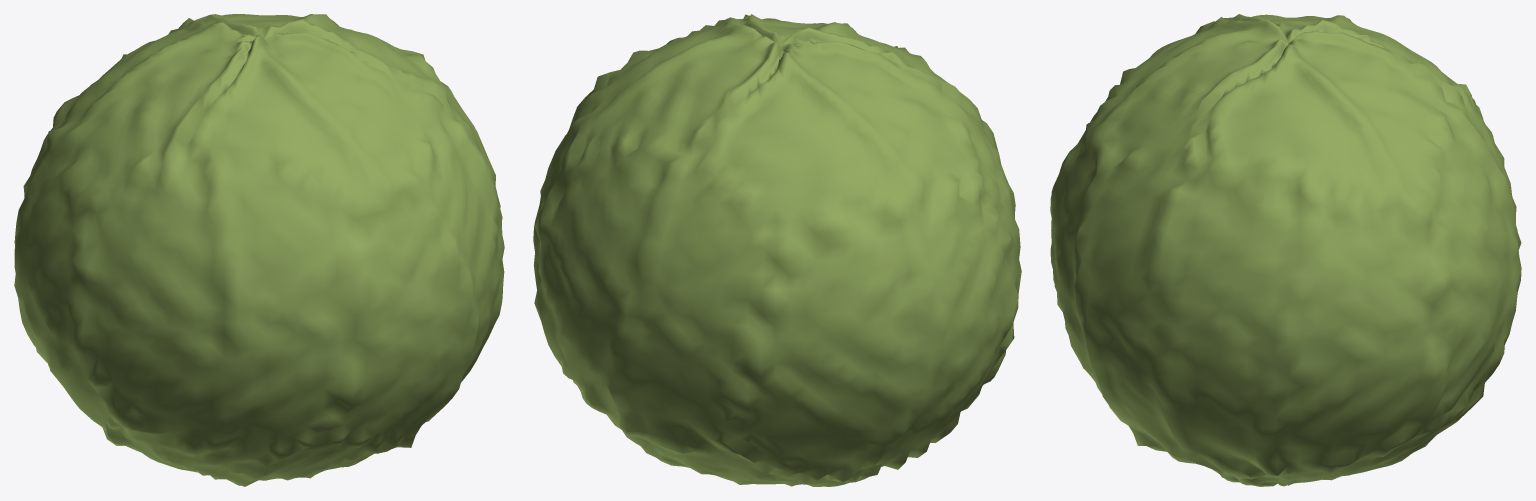
The model's file is A-NEW-20261027-CABBAGE-001_LOD1_R2.fbx.
3 renders of one model, left to right at view 1: azimuth 30°, elevation 25°; view 2: azimuth 150°, elevation 25°; view 3: azimuth 270°, elevation 25°, orthographic.
Visible parts, largest first — view 1: continuous original cabbage leaf head; view 2: continuous original cabbage leaf head; view 3: continuous original cabbage leaf head.
Part boxes in pixels (box(x1,y1,x2,y2)): continuous original cabbage leaf head: box(14, 14, 504, 486); continuous original cabbage leaf head: box(533, 14, 1021, 486); continuous original cabbage leaf head: box(1050, 14, 1521, 486).
Bounding box in the file's own units: 25.48 × 24.8 × 24.
